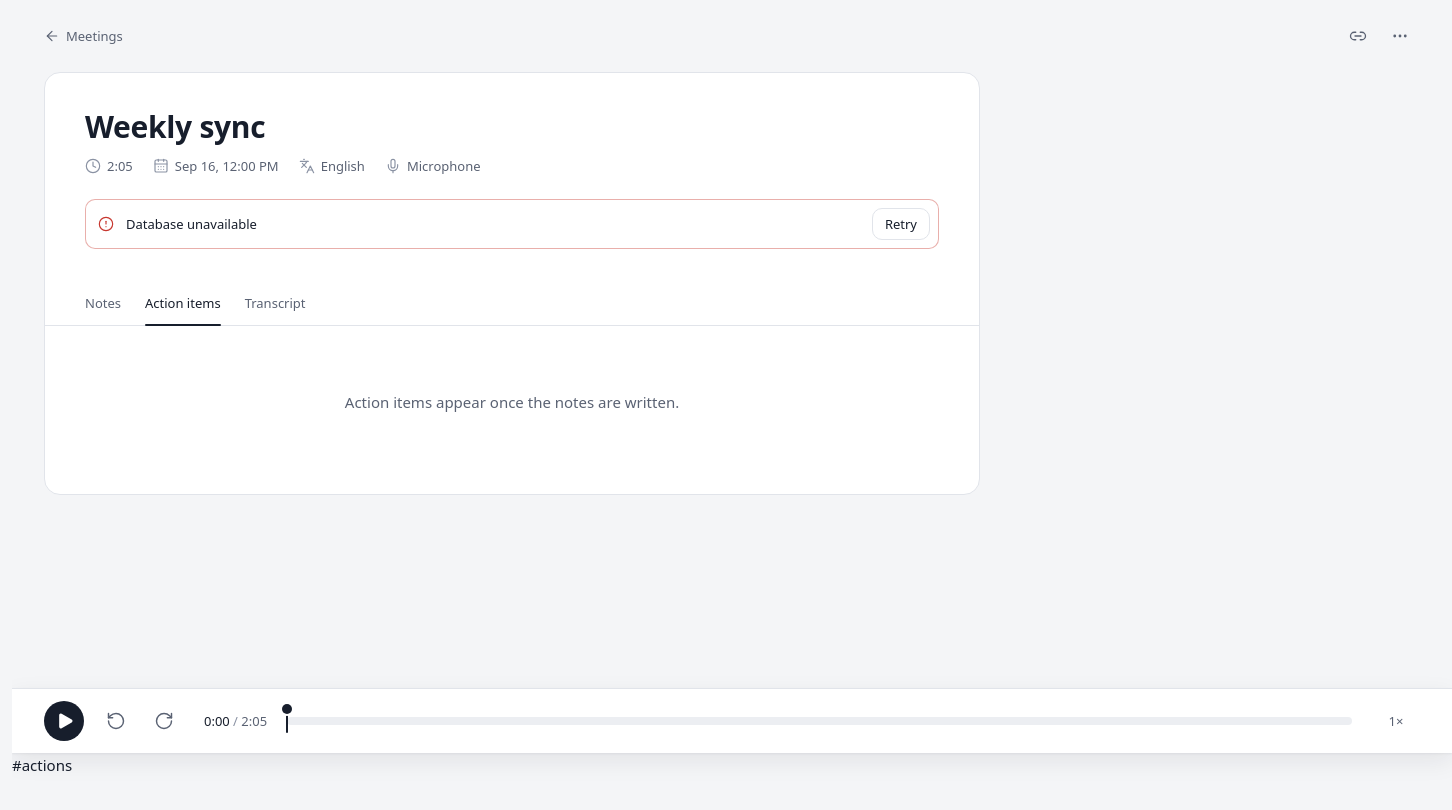
Test: MeetingPage › processing › offers a retry when the automatic start fails, on any tab
Expected: the message shows "Database unavailable", [126,215,257,233]
What coordinates should you click on to do the following:
click the button "Retry"
I would click on:
 (901, 224)
Its box is [872,208,930,240].
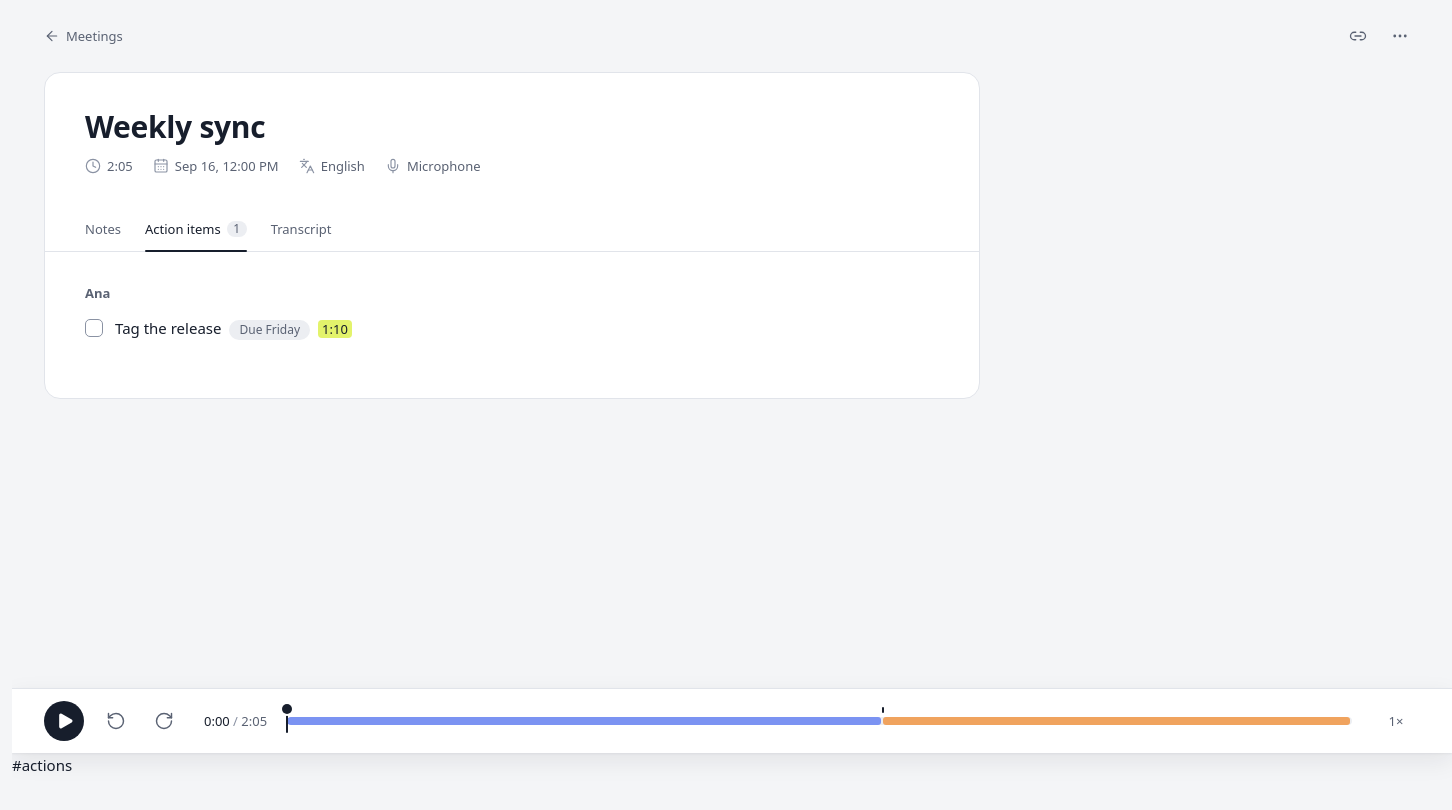
Expected: the checkbox labelled "Tag the release" is shown, [85,319,103,337]
Expected: the message "Database unavailable Retry" is gone
